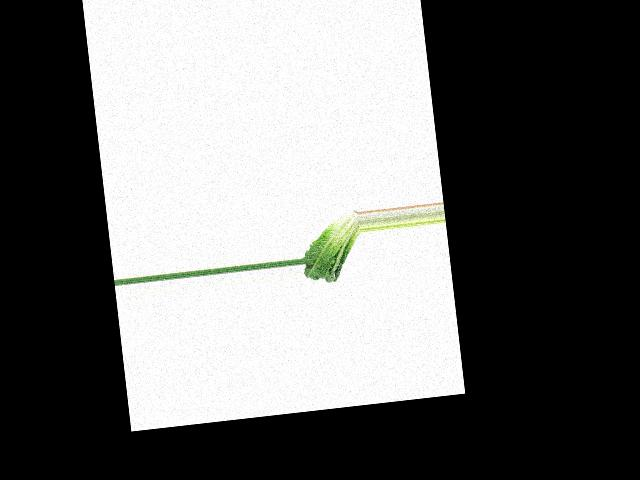lettuce: (298, 209, 365, 286)
